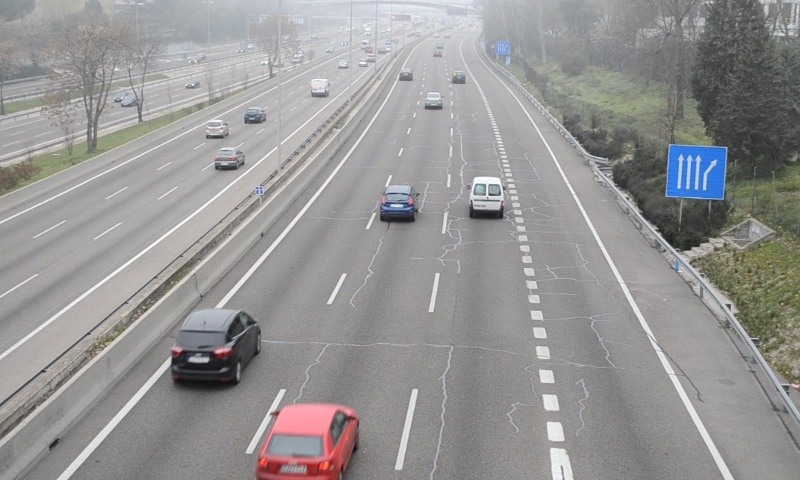car: (258, 404, 356, 480), (170, 310, 260, 384), (380, 187, 418, 221), (424, 92, 444, 109), (398, 67, 414, 82), (451, 70, 466, 85)
van: (468, 176, 505, 218)
